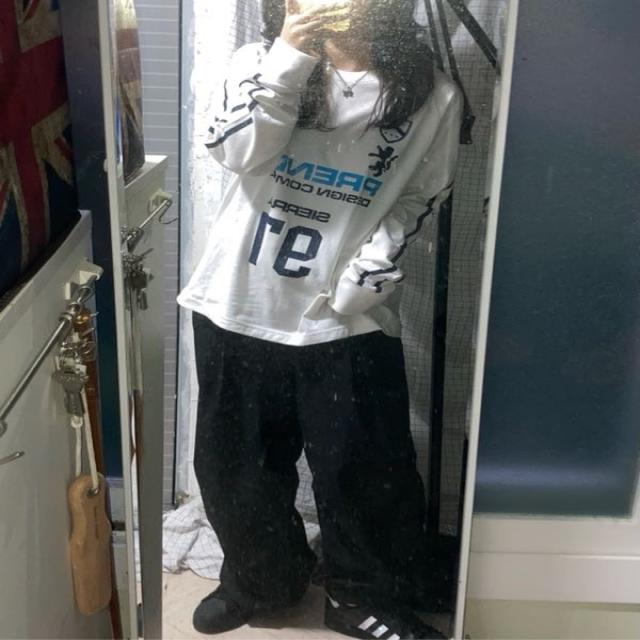longsleeve: (171, 35, 461, 346)
slacks: (195, 308, 433, 610)
